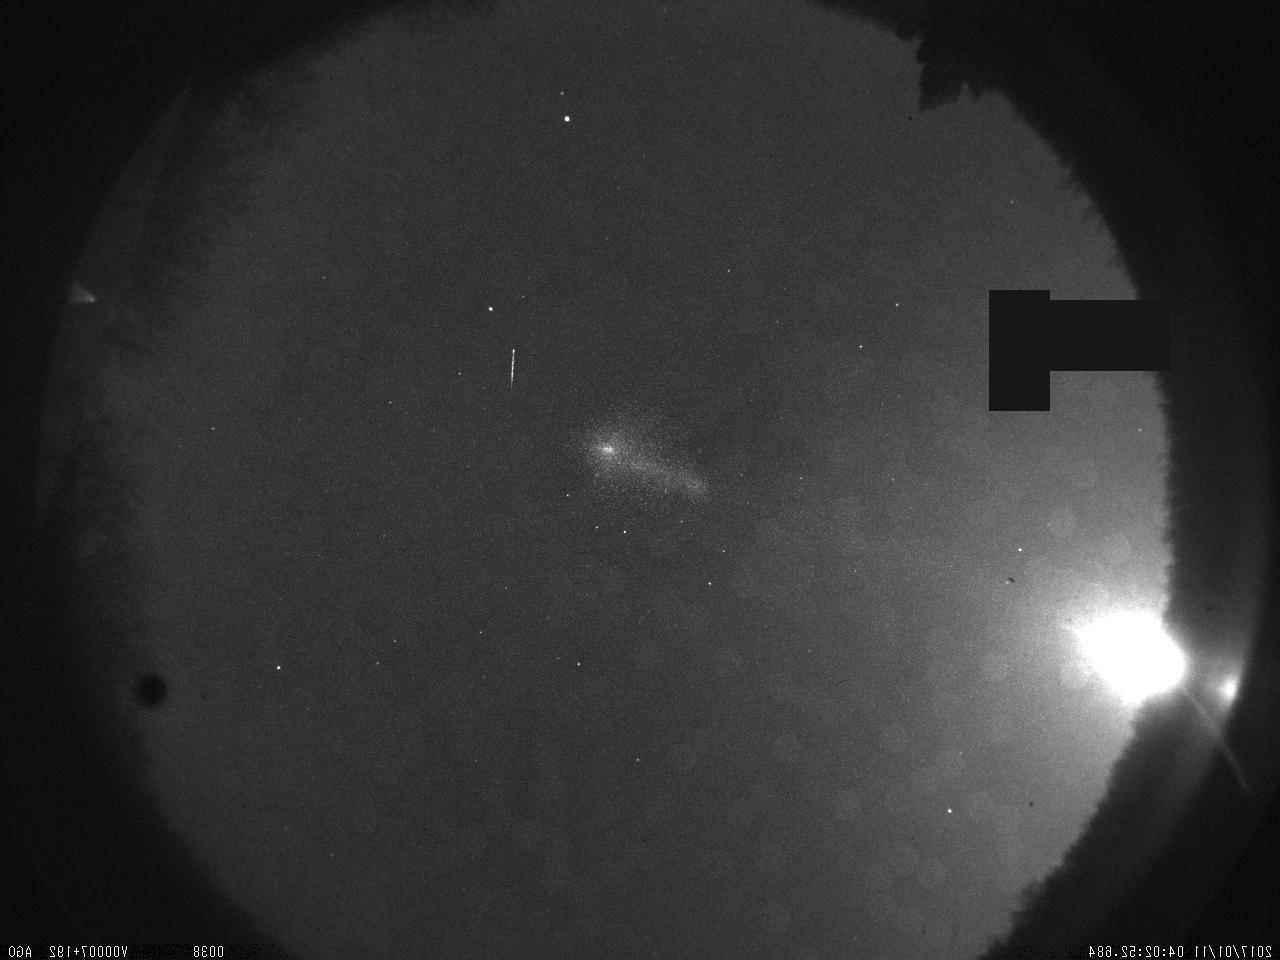meteor: (495, 340, 523, 392)
